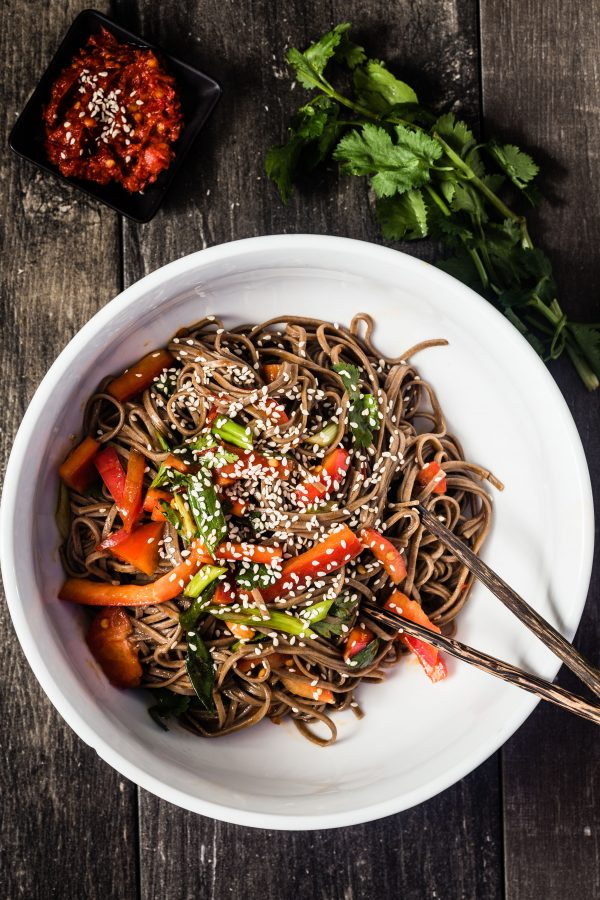Soba: (77, 330, 507, 774)
